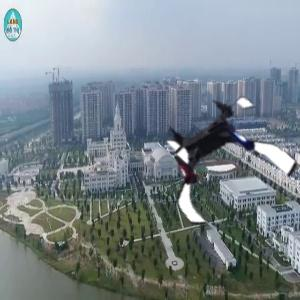drone: (152, 94, 290, 232)
